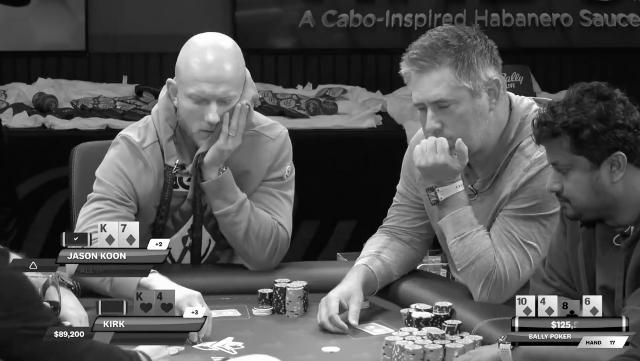10D: (516, 295, 534, 317)
4D: (538, 295, 558, 317)
4H: (154, 288, 176, 316)
6D: (583, 295, 603, 317)
7D: (119, 222, 139, 248)
8C: (561, 299, 579, 317)
KD: (98, 222, 118, 246)
KH: (134, 289, 154, 317)
